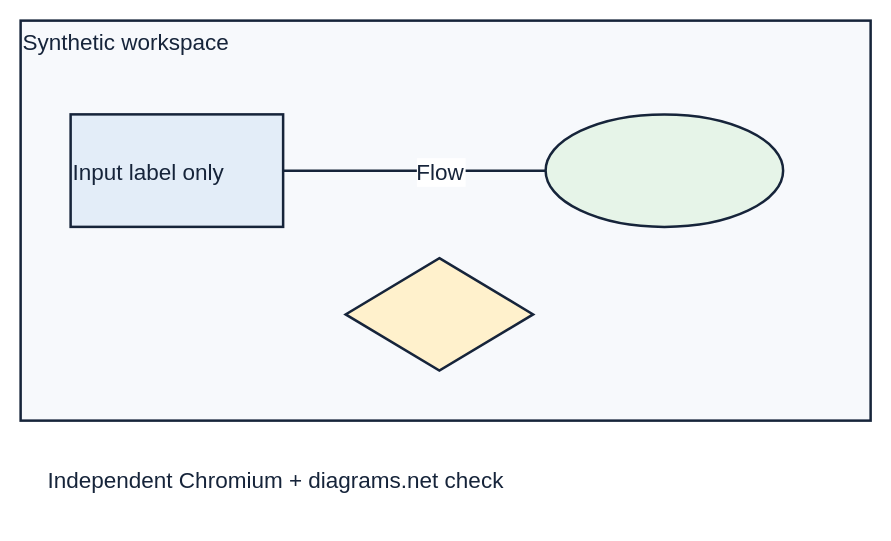
Image size: 891x541. Some labels were removed from this diagram. The shapes that lost their labels are listed below. From the top down, each one's box as (x1, y1, x2, y2) in pixels, then its label:
(544, 112, 784, 228): Output fallback
(344, 256, 534, 371): Choice
